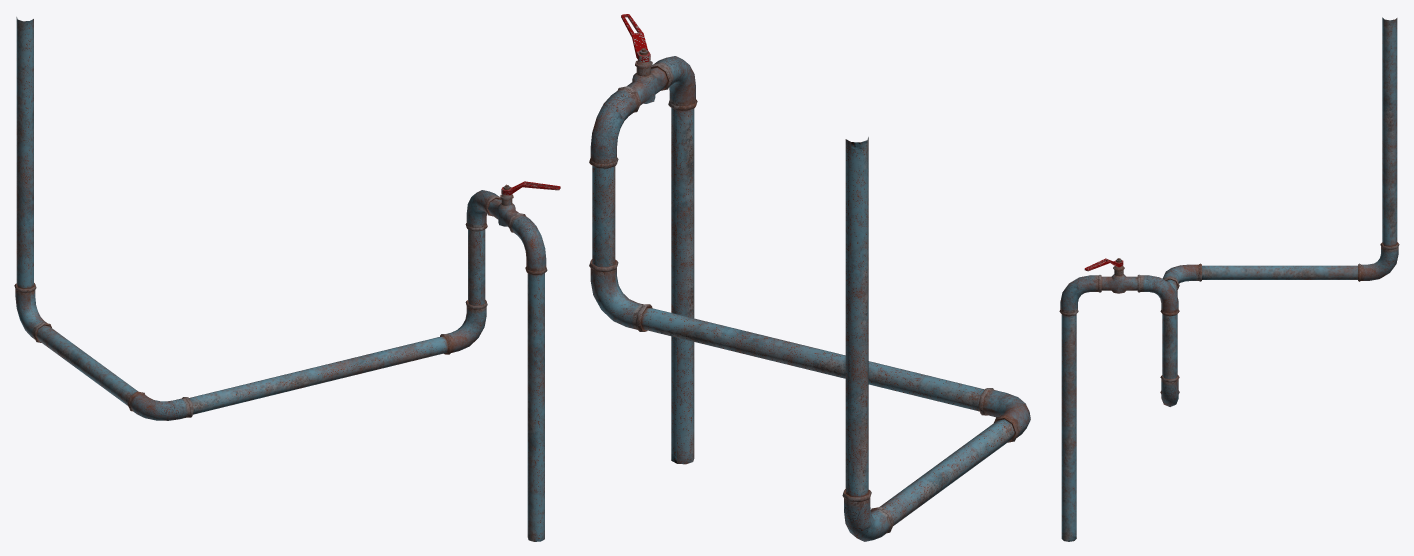
Rendered from pipe_6.glb.
The picture shows the model from 3 angles, left to right: view 1: azimuth 30°, elevation 25°; view 2: azimuth 150°, elevation 25°; view 3: azimuth 270°, elevation 25°; orthographic projection. The views are drawn at different scales.
Parts seen in each view (by area): view 1: Material2.002; view 2: Material2.002; view 3: Material2.002.
Boxes of the visible parts, x1,y1,x2,y2 form: Material2.002: (14,17,560,541); Material2.002: (589,14,1030,541); Material2.002: (1059,17,1399,541).
Size of the model in its own units: 38.06 by 45.69 by 36.21.
1 material, 1 textured.
